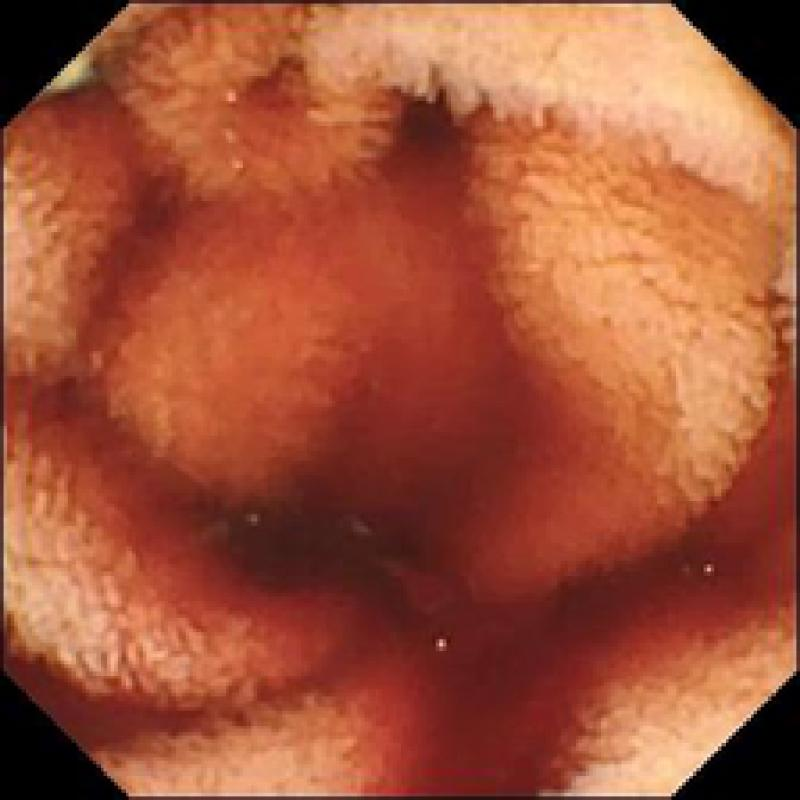bleeding: (57, 96, 789, 800)
